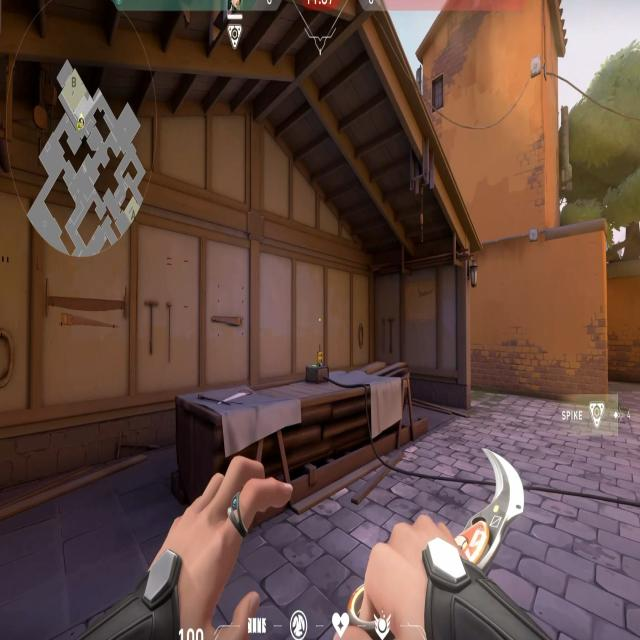B_Garage_Left: (0, 103, 224, 537)
B_Garage_Right: (344, 251, 481, 414)
